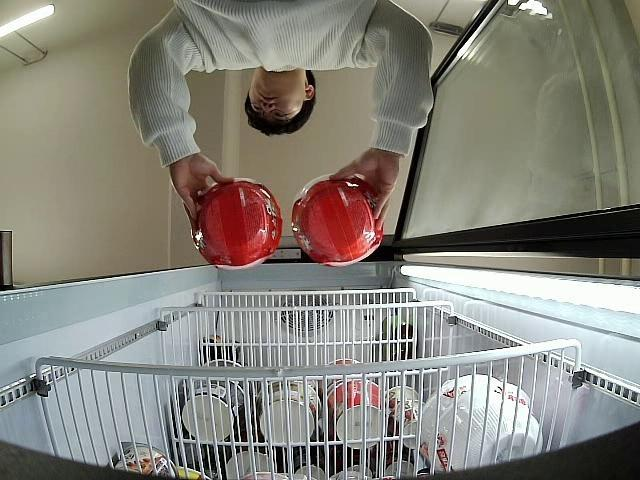10_wangTtukkeong: (292, 174, 384, 268), (190, 180, 284, 270)
